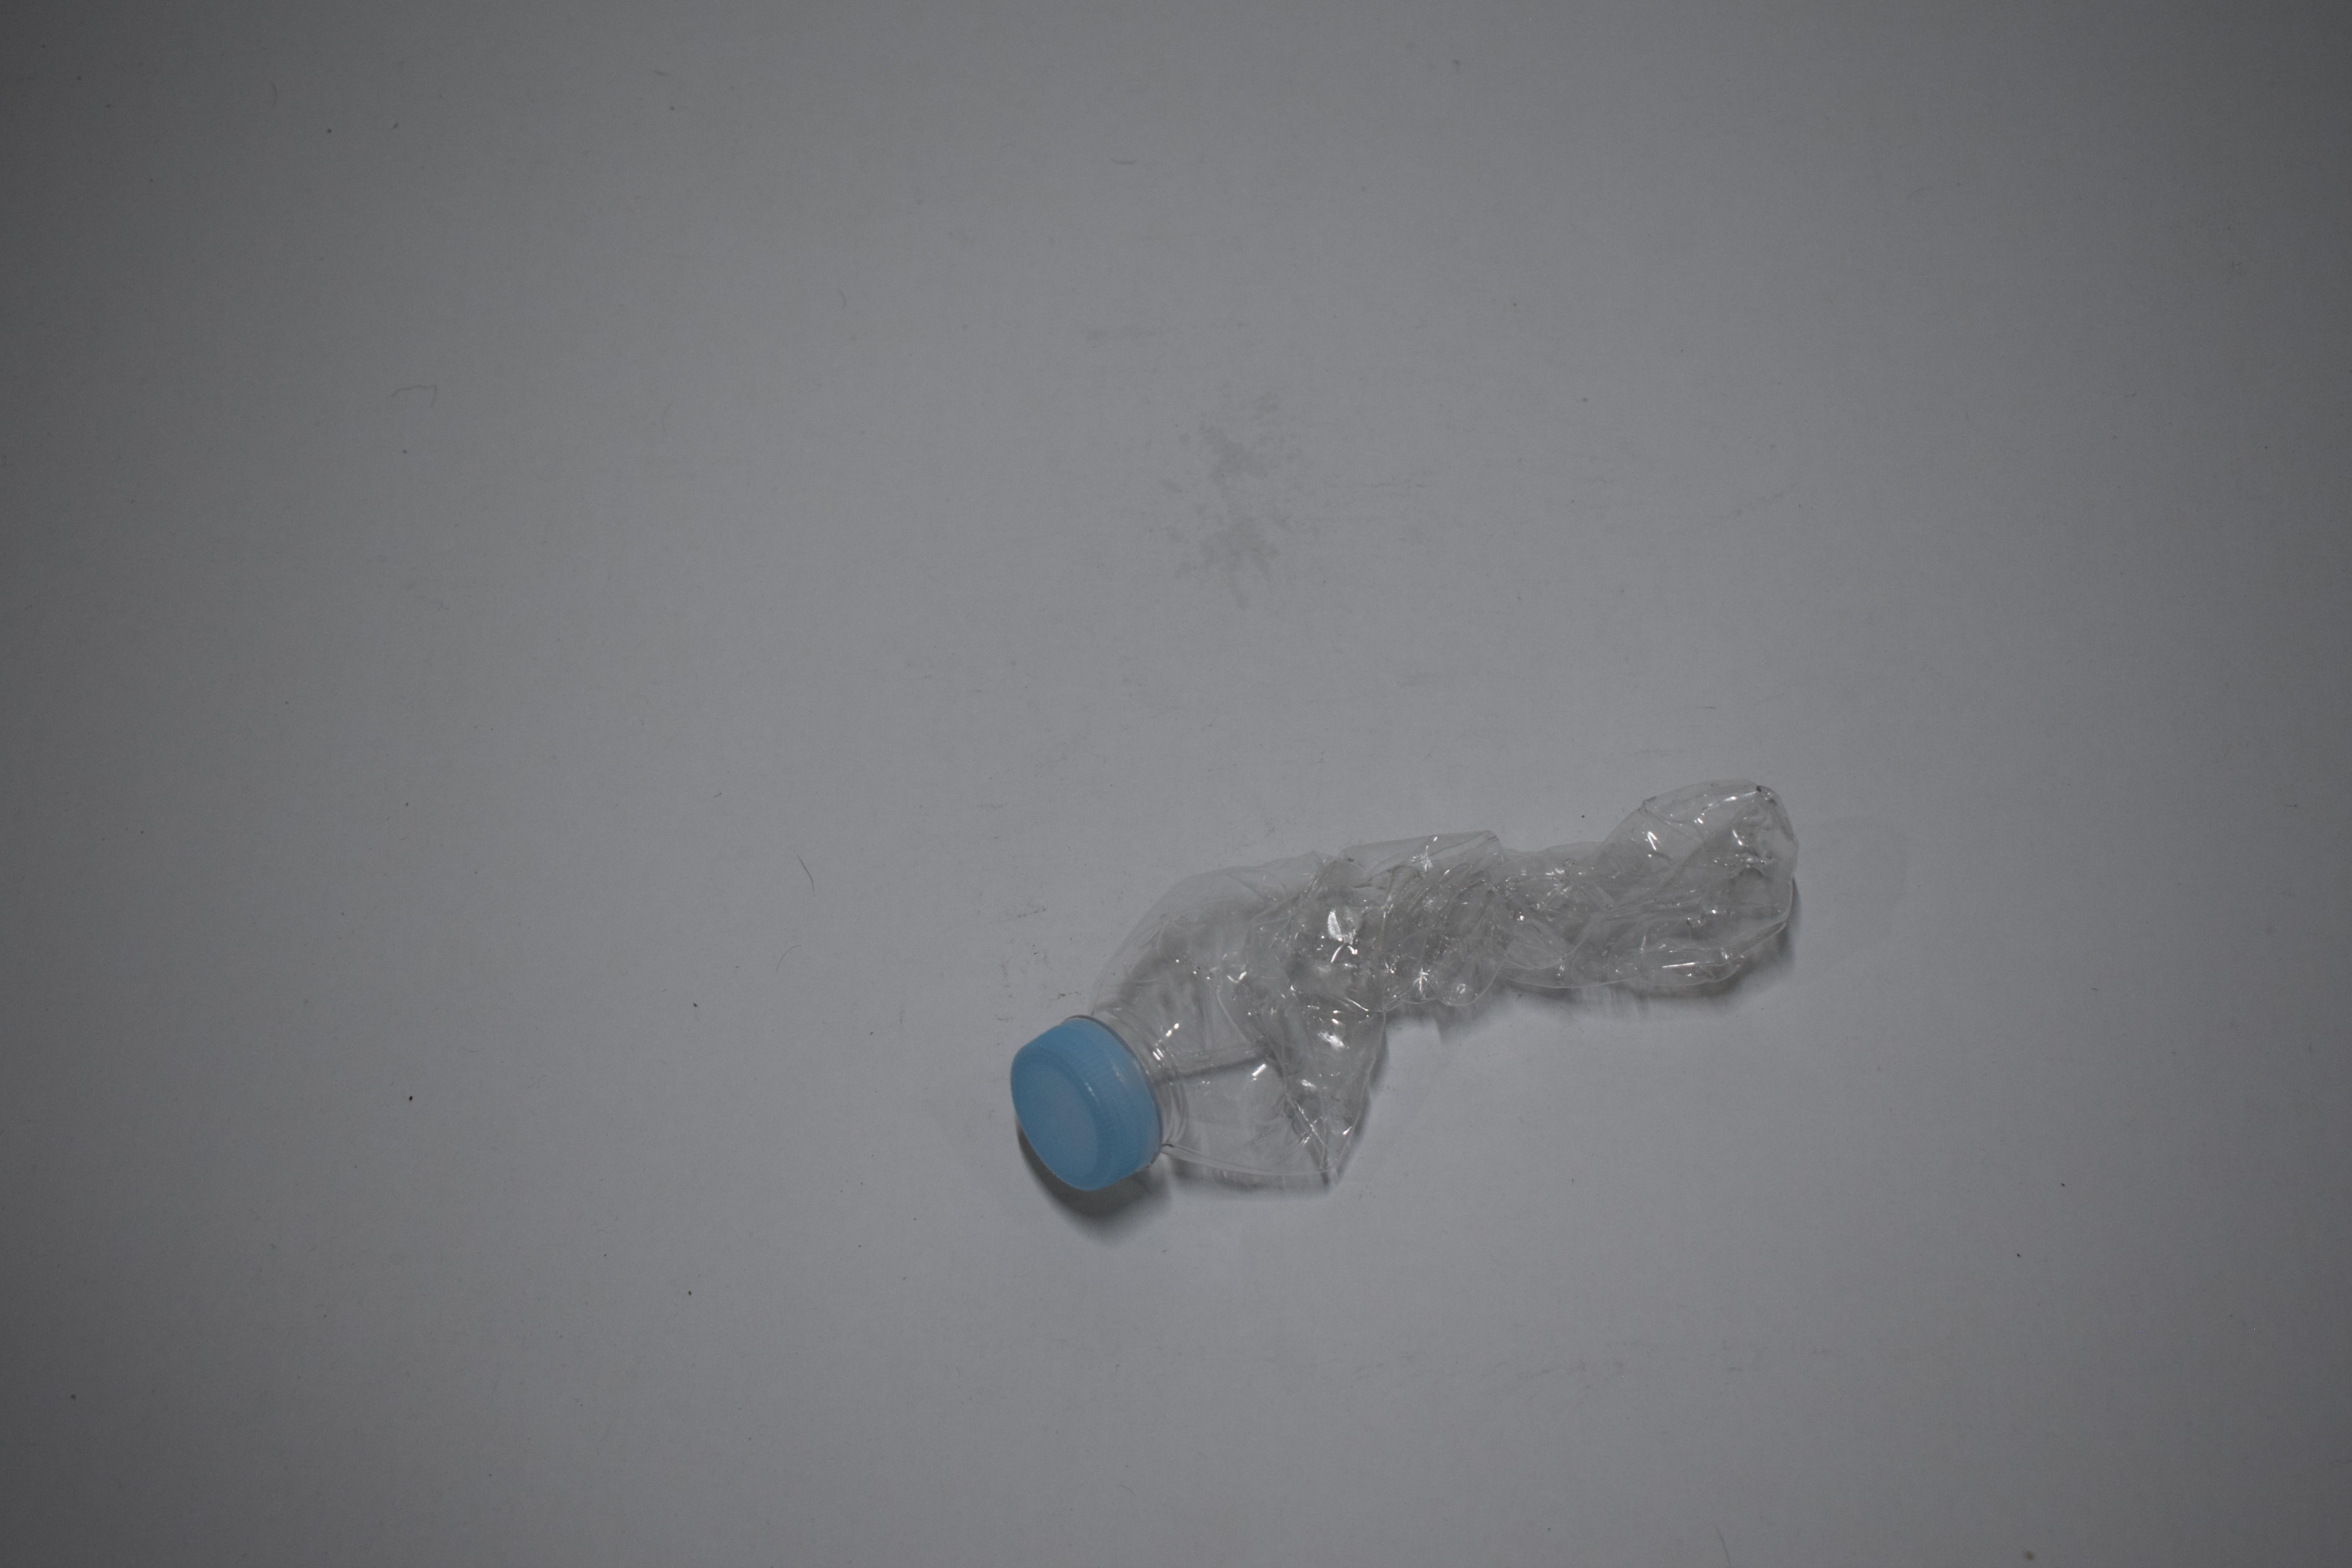bottle: (0, 772, 630, 1211)
